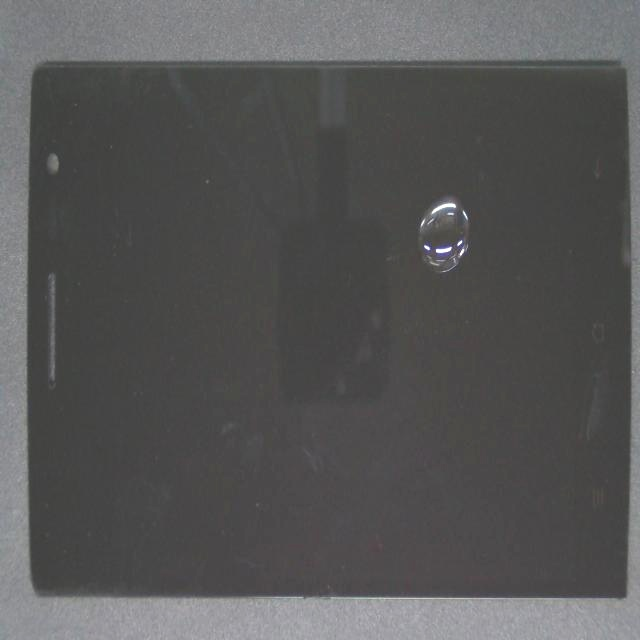oil: (248, 121, 640, 321)
